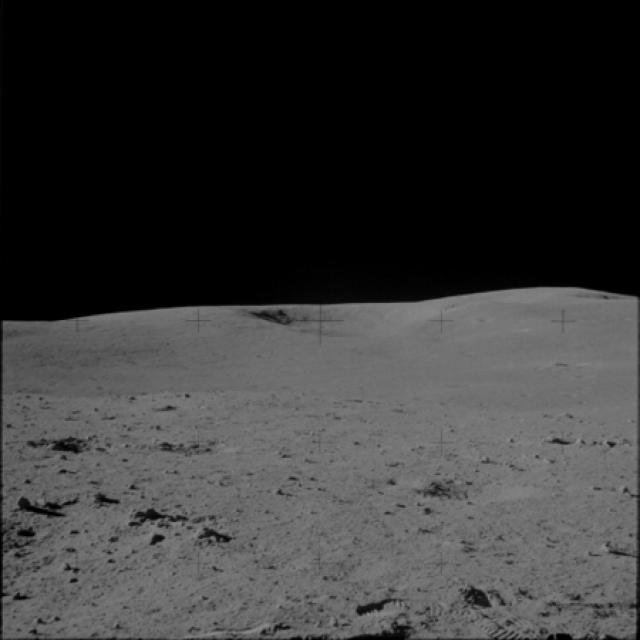crater: (397, 464, 563, 515), (24, 428, 118, 464), (154, 432, 246, 462)
rock: (157, 517, 240, 547), (112, 498, 156, 534), (586, 534, 620, 559), (31, 490, 65, 512), (13, 494, 33, 520)
